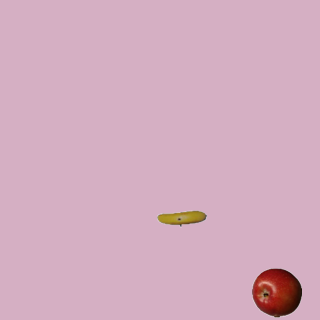Apple Braeburn: (251, 267, 301, 317)
Banana: (156, 193, 206, 243)
